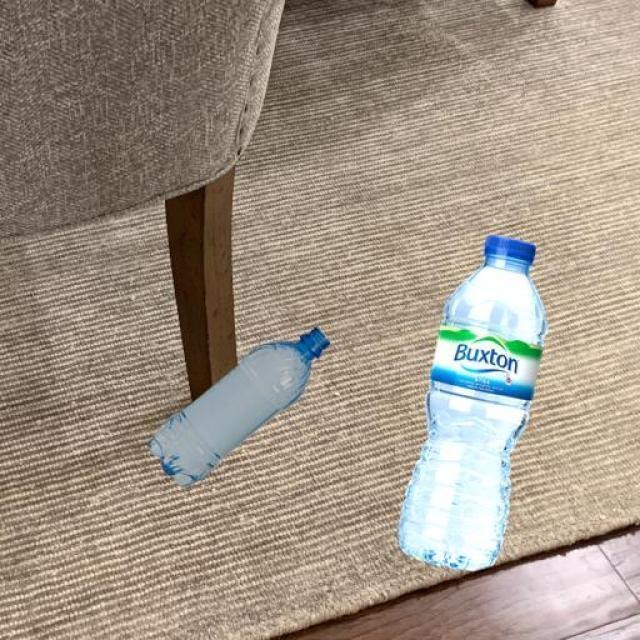bottle: (394, 233, 548, 572), (145, 323, 330, 488)
